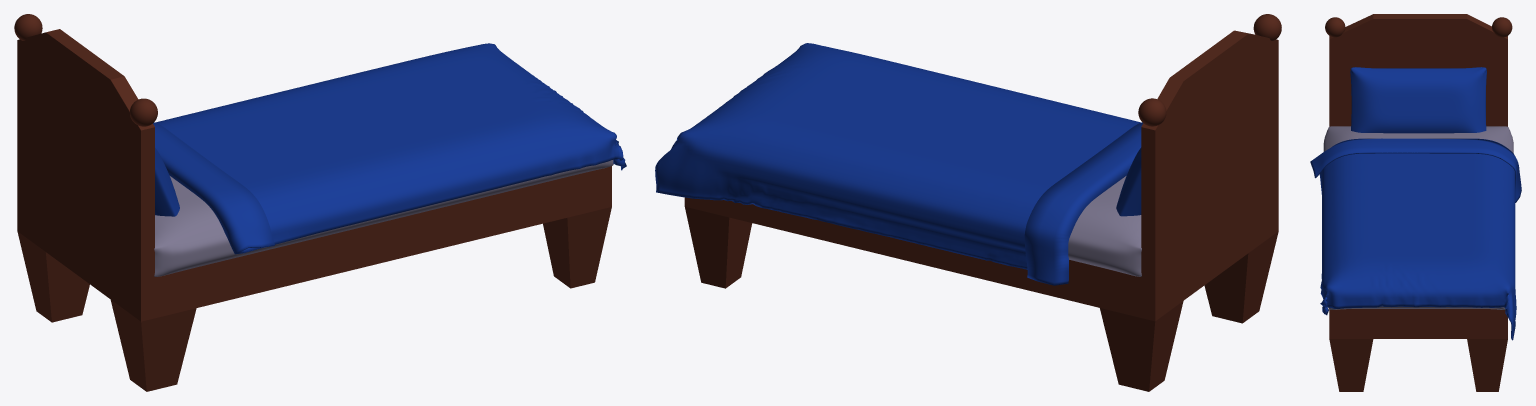
Rendered from Bed.fbx.
3 renders of one model, left to right at view 1: azimuth 30°, elevation 25°; view 2: azimuth 150°, elevation 25°; view 3: azimuth 270°, elevation 25°, orthographic. The views are drawn at different scales.
Visible parts, largest first — view 1: Cube, Plane, Cube.002, Sphere, Cube.001; view 2: Plane, Cube, Cube.002, Sphere, Cube.001; view 3: Plane, Cube, Cube.001, Cube.002, Sphere.
Part boxes in pixels (x1=…): Cube: x1=17, y1=29, x2=611, y2=391; Plane: x1=153, y1=43, x2=626, y2=254; Cube.002: x1=154, y1=160, x2=613, y2=276; Sphere: x1=14, y1=14, x2=157, y2=126; Cube.001: x1=155, y1=148, x2=179, y2=216; Plane: x1=655, y1=43, x2=1143, y2=285; Cube: x1=684, y1=30, x2=1278, y2=391; Cube.002: x1=1068, y1=176, x2=1141, y2=276; Sphere: x1=1138, y1=14, x2=1281, y2=126; Cube.001: x1=1116, y1=147, x2=1141, y2=216; Plane: x1=1310, y1=138, x2=1521, y2=340; Cube: x1=1329, y1=14, x2=1507, y2=391; Cube.001: x1=1350, y1=67, x2=1486, y2=133; Cube.002: x1=1323, y1=126, x2=1513, y2=309; Sphere: x1=1325, y1=17, x2=1512, y2=37.
Size of the model in its own units: 938 by 531 by 473.
